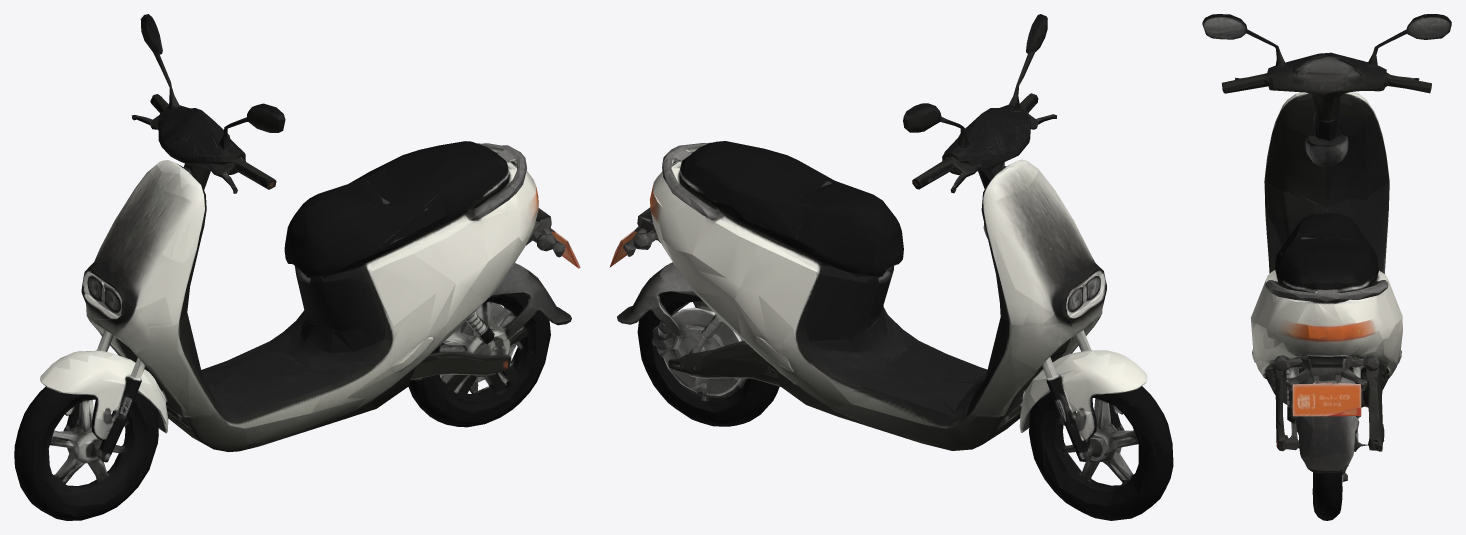
File: Meshy_AI_White_Electric_Scoote_1021235552_texture.fbx
3 renders of one model, left to right at view 1: azimuth 30°, elevation 25°; view 2: azimuth 150°, elevation 25°; view 3: azimuth 270°, elevation 25°, orthographic. The views are drawn at different scales.
Parts seen in each view (by area): view 1: output_unwrapped; view 2: output_unwrapped; view 3: output_unwrapped.
Part boxes in pixels (x1,y1,x2,y2): output_unwrapped: (14, 14, 580, 520); output_unwrapped: (609, 14, 1173, 520); output_unwrapped: (1202, 14, 1451, 520).
Bounding box in the file's own units: 190 × 141 × 83.37.
1 material, 1 textured.
